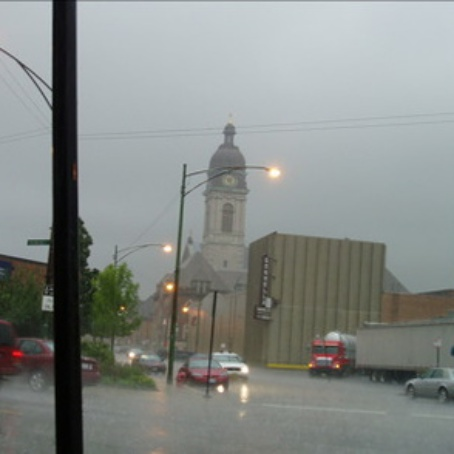building: (135, 123, 258, 344), (240, 238, 381, 371)
car: (395, 367, 454, 403), (174, 353, 228, 392), (212, 351, 249, 383)
sky: (1, 1, 446, 264)
street: (1, 393, 441, 454)
tree: (84, 253, 145, 360)
truck: (309, 322, 356, 380)
